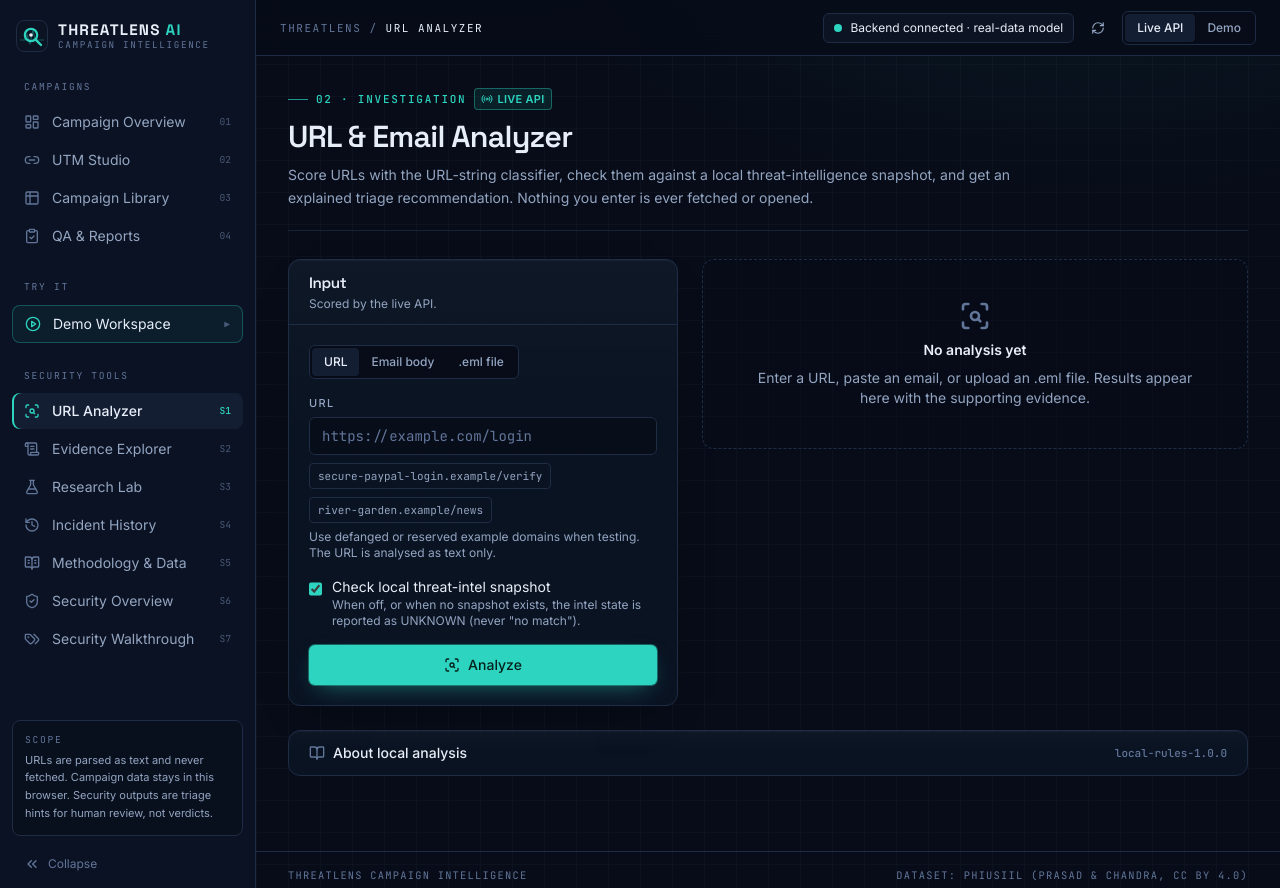
Test case: A. backend connected › reports HTTP errors as errors instead of falling back to local rules
The width and height of the screenshot is (1280, 888).
Check: the message with test id "mode-pill" shows "Backend connected", box 850,20 -> 1063,34
Type "http://secure-paypal-login.example/verify/a1b2c3" into the field labelled "URL" at (483, 436), box 309,417 -> 657,455
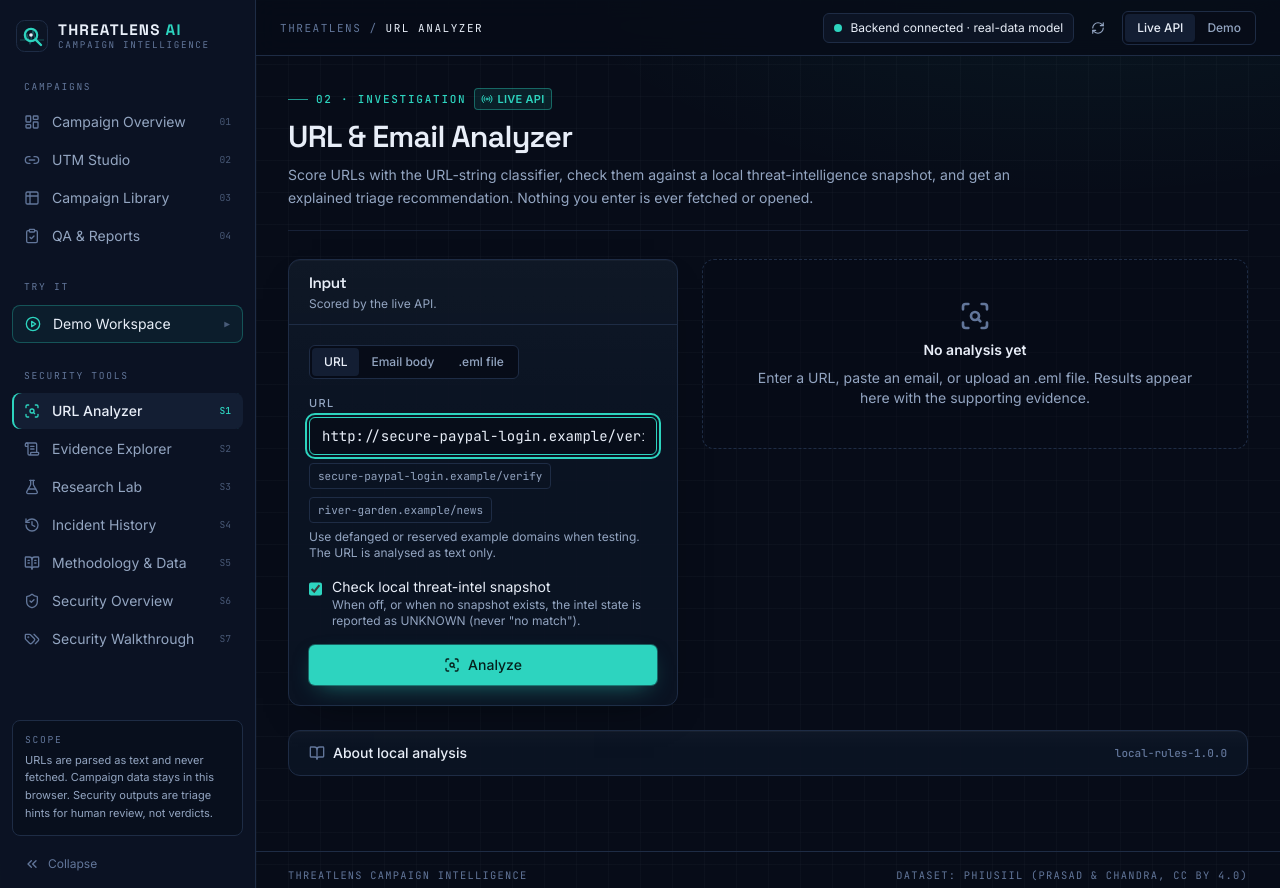
Click the button "Analyze" at (483, 665), box 309,645 -> 657,685
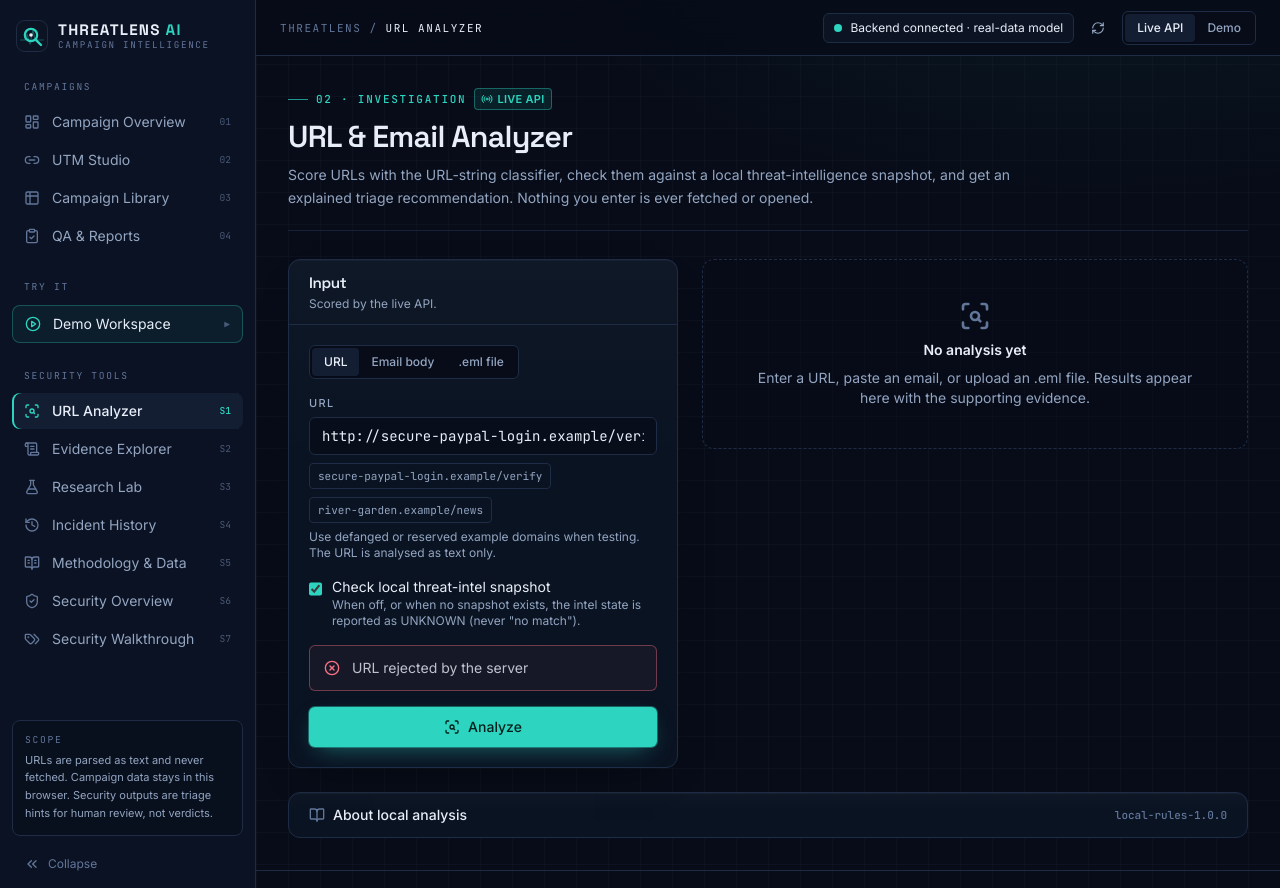
Check: the text "URL rejected by the server" is shown, box 352,659 -> 528,676
